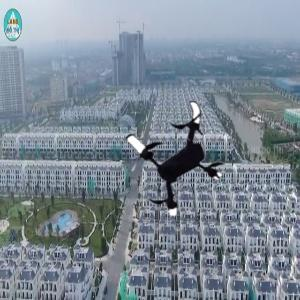drone: (114, 96, 234, 216)
